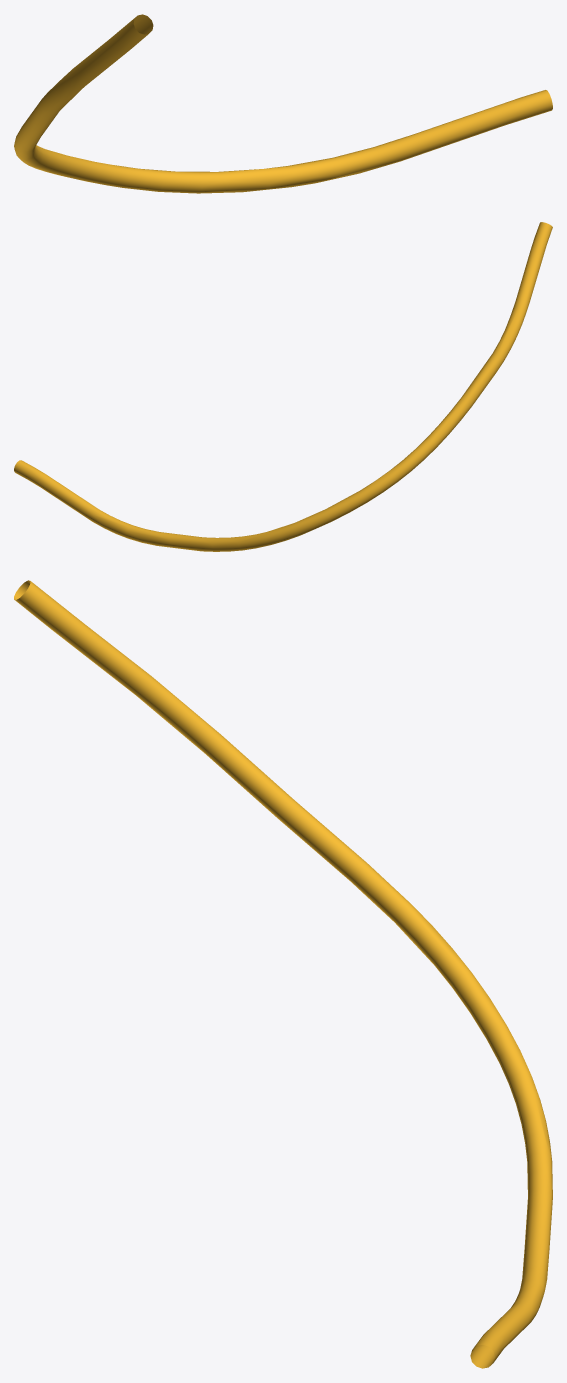
The model's file is nervoso-muscular-branches-of-axillary-nerve-r.glb.
The picture shows the model from 3 angles, top to bottom: view 1: azimuth 30°, elevation 25°; view 2: azimuth 150°, elevation 25°; view 3: azimuth 270°, elevation 25°; orthographic projection. The views are drawn at different scales.
Visible parts, largest first — view 1: Muscular branches of axillary nerve.r; view 2: Muscular branches of axillary nerve.r; view 3: Muscular branches of axillary nerve.r.
Part boxes in pixels (x1,y1,x2,y2): Muscular branches of axillary nerve.r: [14, 14, 552, 193]; Muscular branches of axillary nerve.r: [14, 222, 552, 551]; Muscular branches of axillary nerve.r: [14, 580, 552, 1368].
Bounding box in the file's own units: 0.0335 × 0.0215 × 0.0215.
